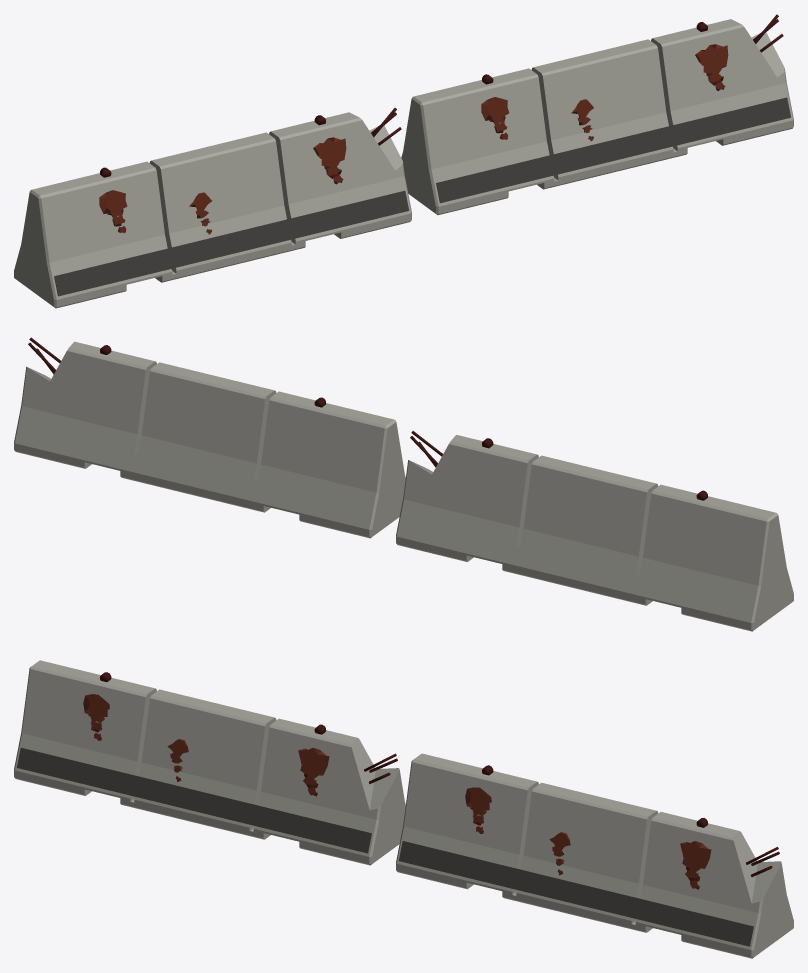
Rendered from cover_jersey.glb.
3 renders of one model, top to bottom at view 1: azimuth 30°, elevation 25°; view 2: azimuth 150°, elevation 25°; view 3: azimuth 330°, elevation 25°, orthographic.
Parts seen in each view (by area): view 1: barrier, barrier.001, splash.001, splash, rust_1, rust_1.001, rust_0, rust_0.001; view 2: barrier, barrier.001; view 3: barrier.001, barrier, splash, splash.001, rust_1, rust_1.001.
Boxes of the visible parts, x1,y1,x2,y2 form: barrier: (14,112,411,308); barrier.001: (401,19,793,215); splash.001: (436,97,790,203); splash: (54,190,408,296); rust_1: (313,137,346,161); rust_1.001: (695,44,728,67); rust_0: (99,190,127,213); rust_0.001: (481,97,509,120); barrier: (396,435,793,631); barrier.001: (14,341,405,538); barrier.001: (396,753,793,958); barrier: (14,660,405,865); splash: (17,747,371,853); splash.001: (399,841,753,946); rust_1: (298,748,329,775); rust_1.001: (680,841,711,868).
Bounding box in the file's own units: 6.24 × 0.865 × 0.61.
